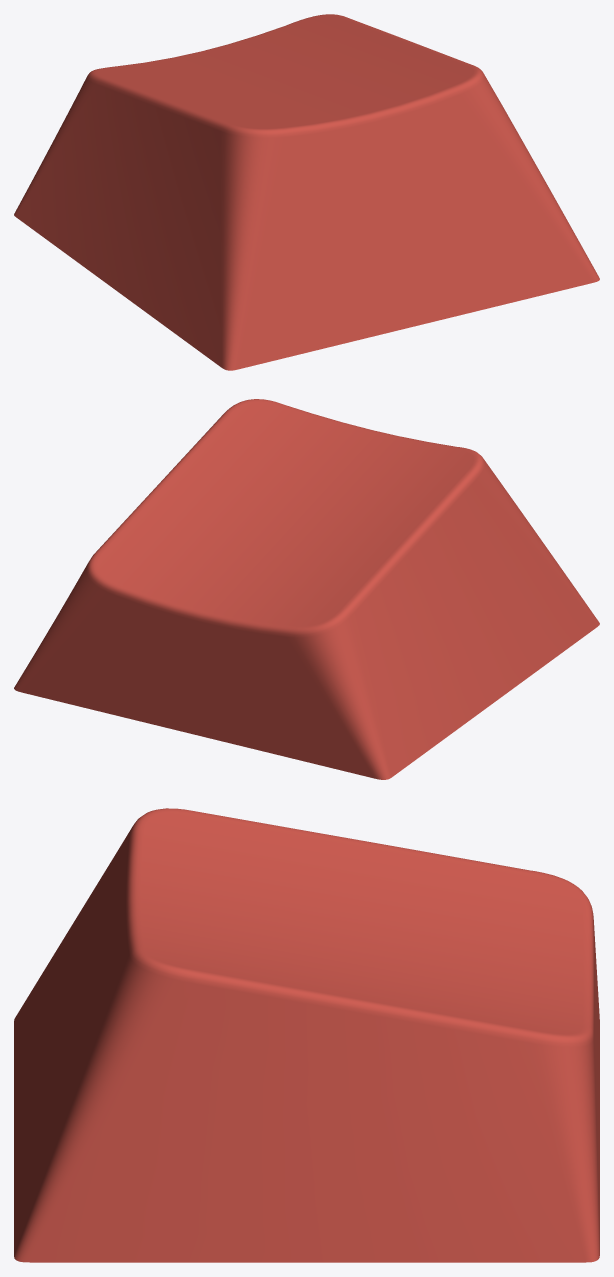
The model's file is CHR-R4-1u.gltf.
The picture shows the model from 3 angles, top to bottom: view 1: azimuth 30°, elevation 25°; view 2: azimuth 150°, elevation 25°; view 3: azimuth 270°, elevation 25°; orthographic projection. The views are drawn at different scales.
Visible parts, largest first — view 1: object 1; view 2: object 1; view 3: object 1.
Part boxes in pixels (box(x1,y1,x2,y2)): object 1: box(14, 14, 599, 370); object 1: box(14, 399, 599, 779); object 1: box(14, 808, 599, 1262).
Bounding box in the file's own units: 1.81 × 0.8602 × 1.81.
